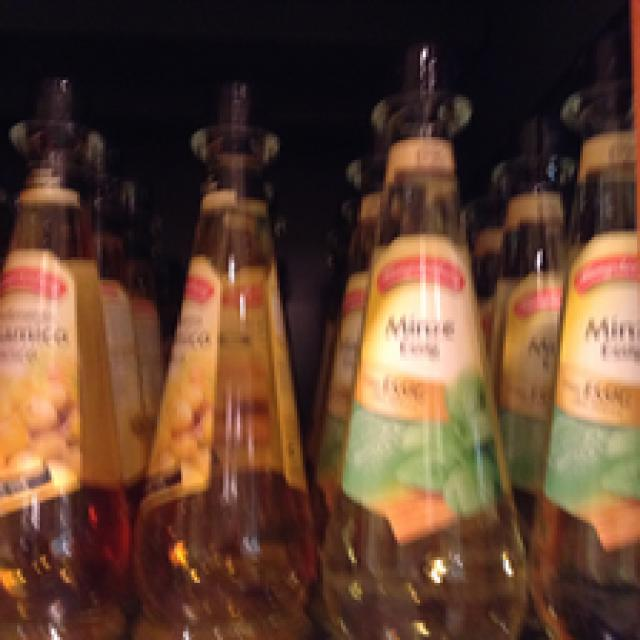groceries: (320, 49, 549, 634), (137, 80, 312, 637), (0, 79, 131, 634), (540, 86, 634, 637)
